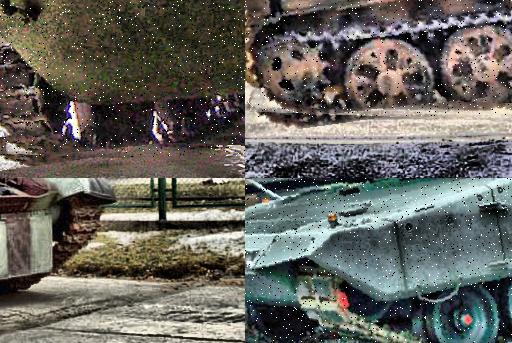tanks: (246, 179, 512, 343), (1, 1, 246, 158), (246, 1, 512, 118), (1, 179, 114, 291)
